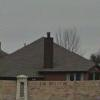Chimney: (40, 25, 60, 68)
